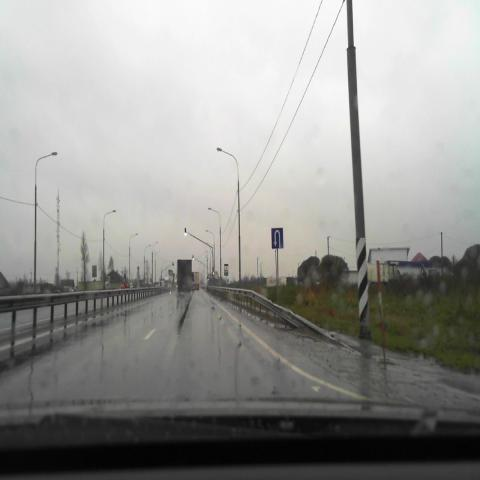6_3_1: (271, 227, 284, 249)
